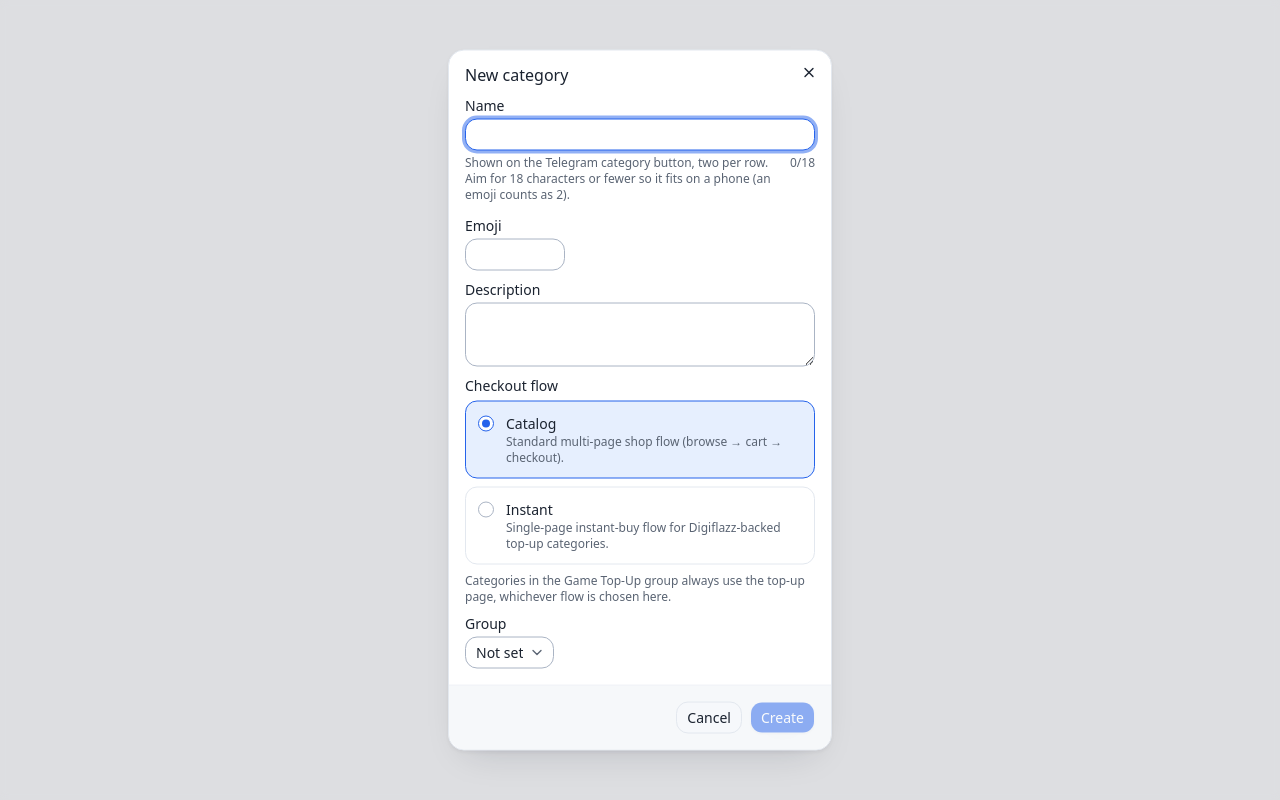
Test: CategoryDialog › surfaces the server's message and leaves the dialog open when saving fails
In the field labelled "Name": (640, 134) x1=465 y1=118 x2=815 y2=150, type "Games"
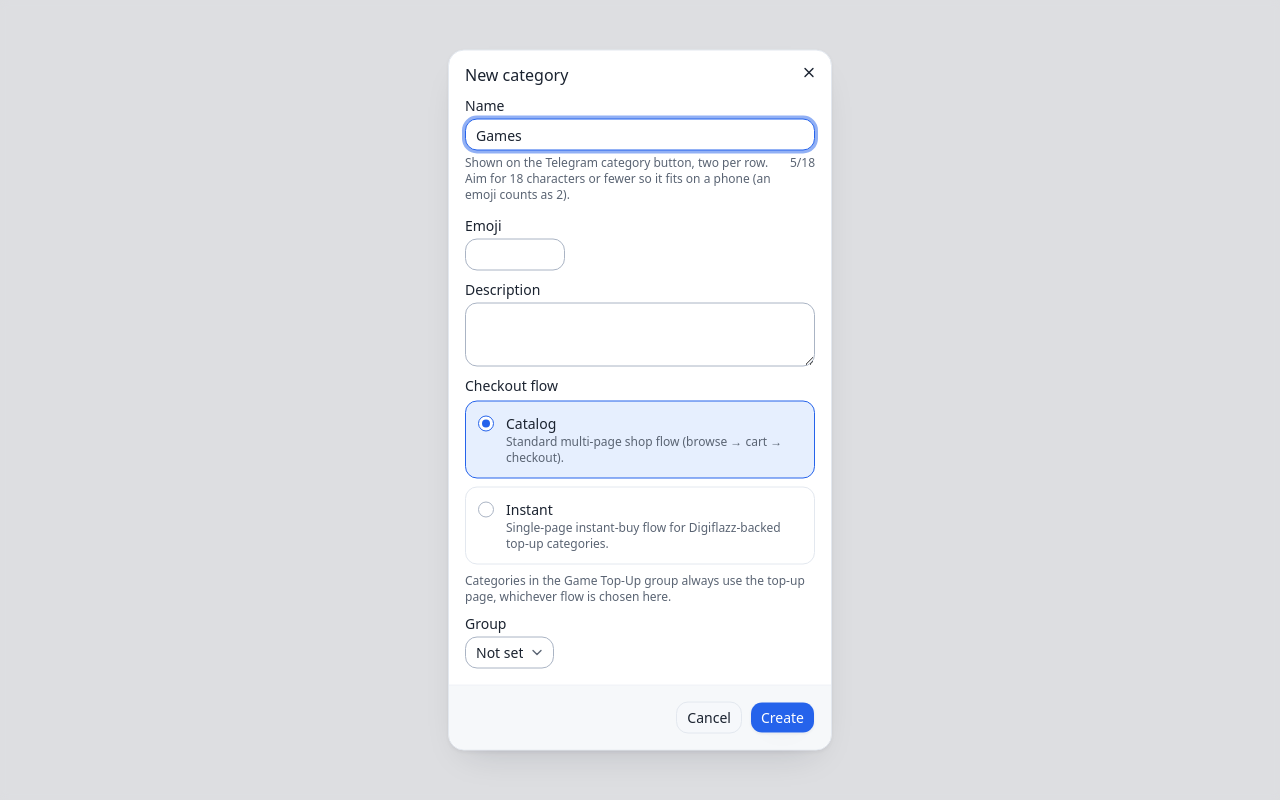
Click the button "Create": (782, 718) x1=750 y1=702 x2=815 y2=734
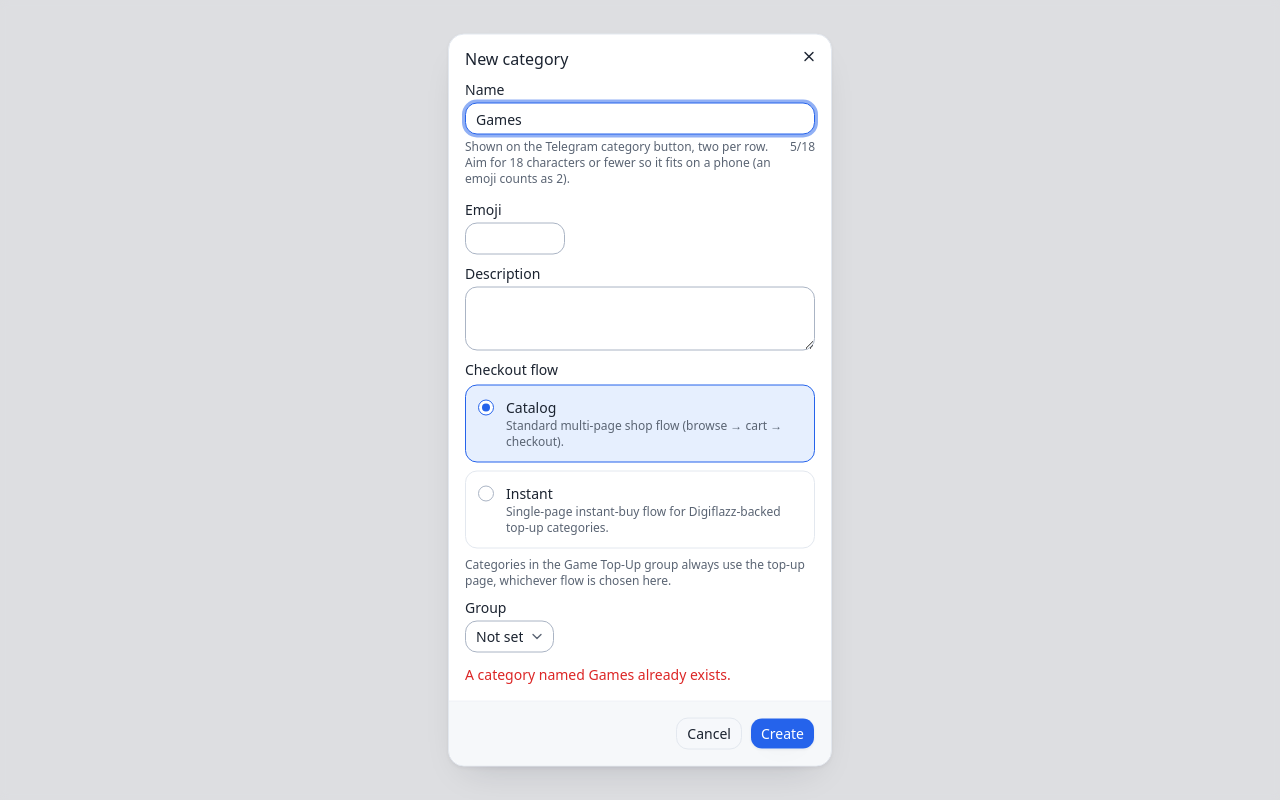
Expected: the text "A category named Games already exists." is shown, x1=465 y1=664 x2=731 y2=684
